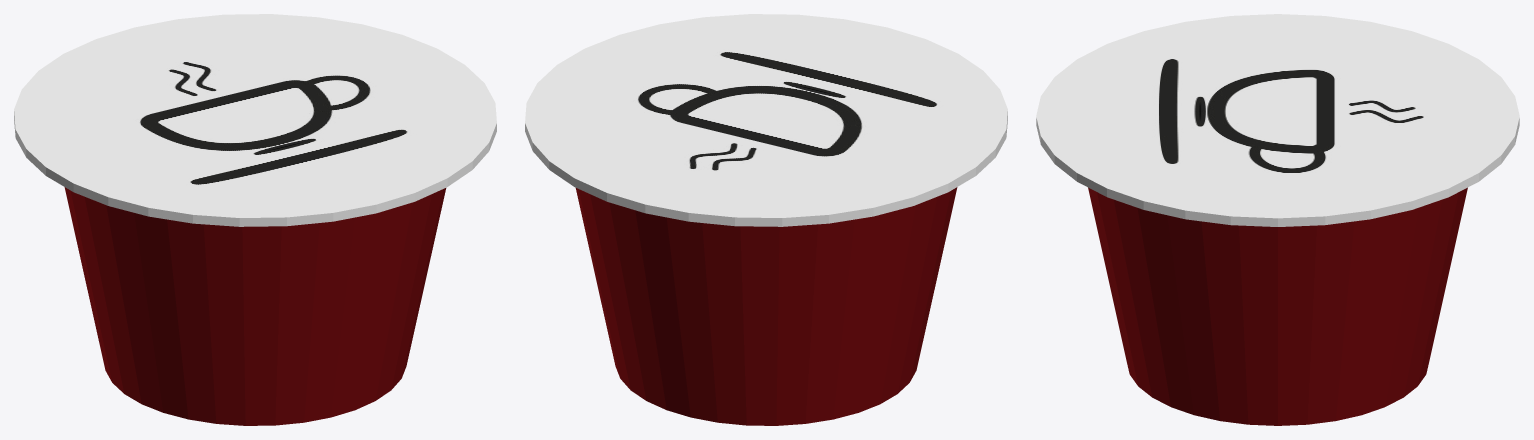
Rendered from coffee_pod.dae.
3 views of the same model, side by side, from view 1: azimuth 30°, elevation 25°; view 2: azimuth 150°, elevation 25°; view 3: azimuth 270°, elevation 25° (orthographic).
Visible parts, largest first — view 1: Lid, Bucket; view 2: Lid, Bucket; view 3: Lid, Bucket.
Boxes of the visible parts, <box> form: Lid: <box>14,14,496,226</box>; Bucket: <box>64,187,446,425</box>; Lid: <box>525,14,1007,226</box>; Bucket: <box>575,187,957,425</box>; Lid: <box>1036,14,1519,226</box>; Bucket: <box>1088,187,1467,425</box>.
Bounding box in the file's own units: 50 × 28.05 × 50.
2 materials, 2 textured.
